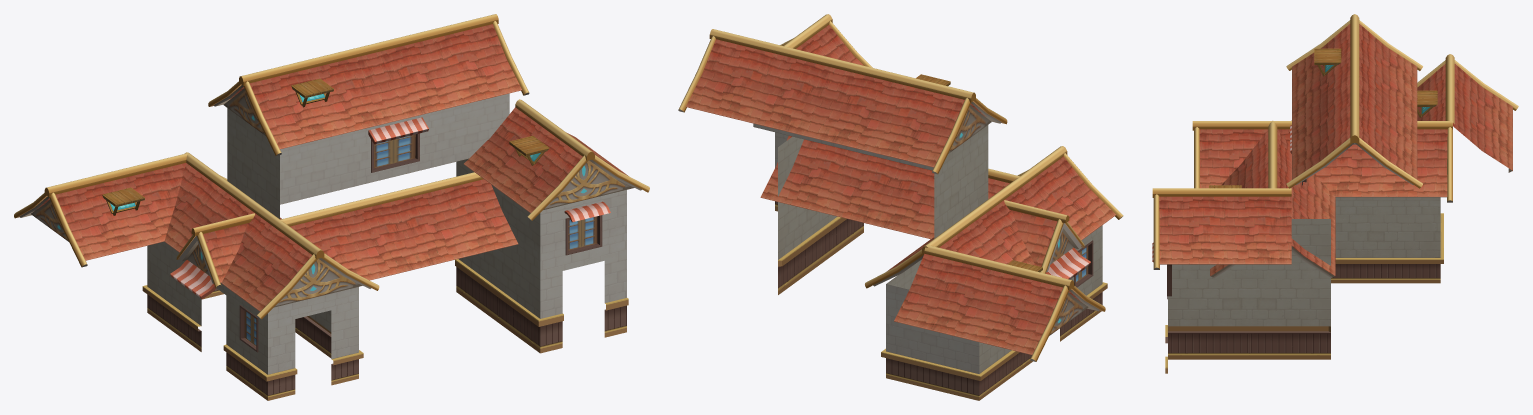
The model's file is zhucheng_jiaoyisuo01.FBX.
3 views of the same model, side by side, from view 1: azimuth 30°, elevation 25°; view 2: azimuth 150°, elevation 25°; view 3: azimuth 270°, elevation 25° (orthographic). The views are drawn at different scales.
Visible parts, largest first — view 1: zhucheng_jiaoyisuo01; view 2: zhucheng_jiaoyisuo01; view 3: zhucheng_jiaoyisuo01.
Part boxes in pixels (x1,y1,x2,y2): zhucheng_jiaoyisuo01: (14, 14, 649, 400); zhucheng_jiaoyisuo01: (678, 14, 1123, 400); zhucheng_jiaoyisuo01: (1152, 14, 1518, 373).
Bounding box in the file's own units: 1468 × 797 × 1061.
